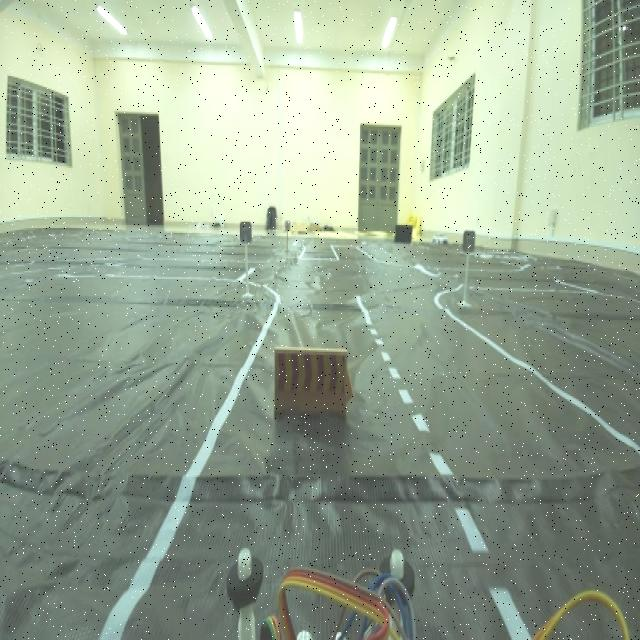roadblock: (268, 335, 357, 433)
